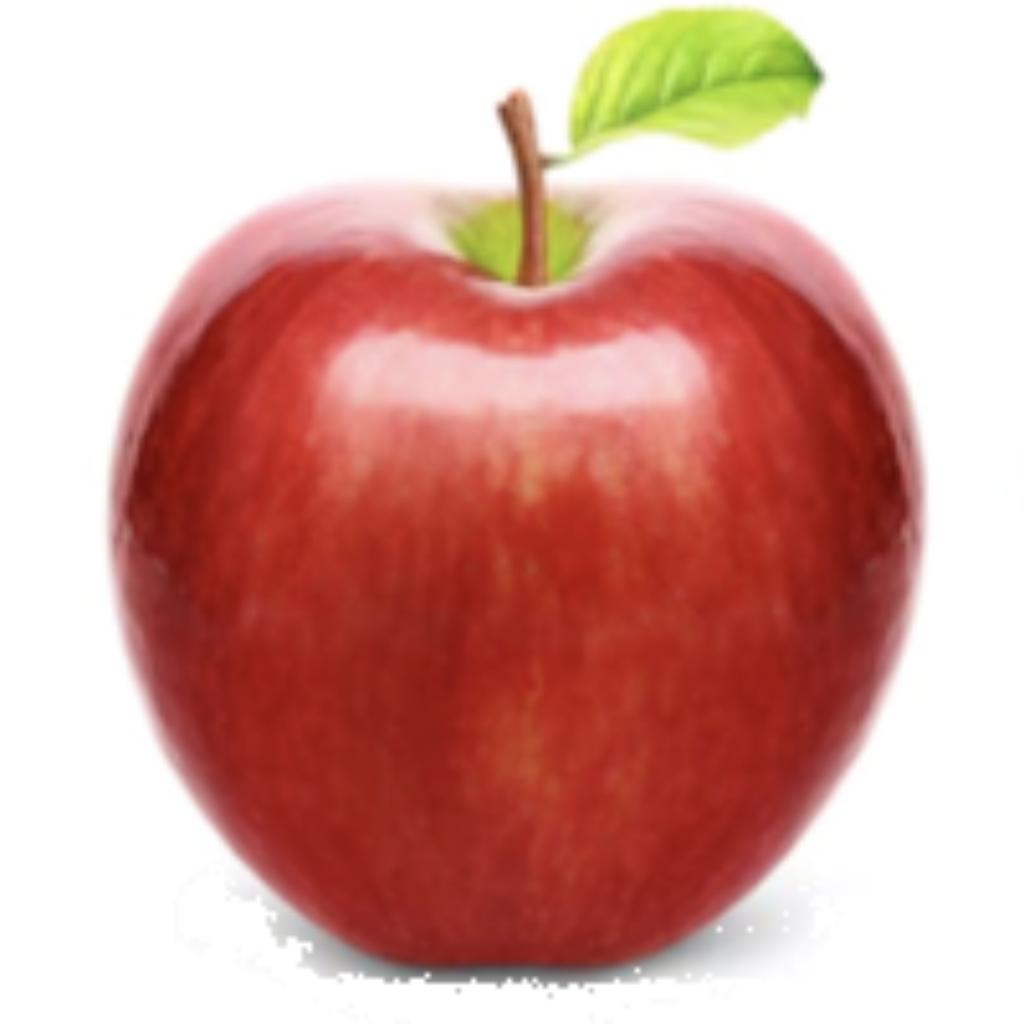apple: (97, 5, 932, 998)
